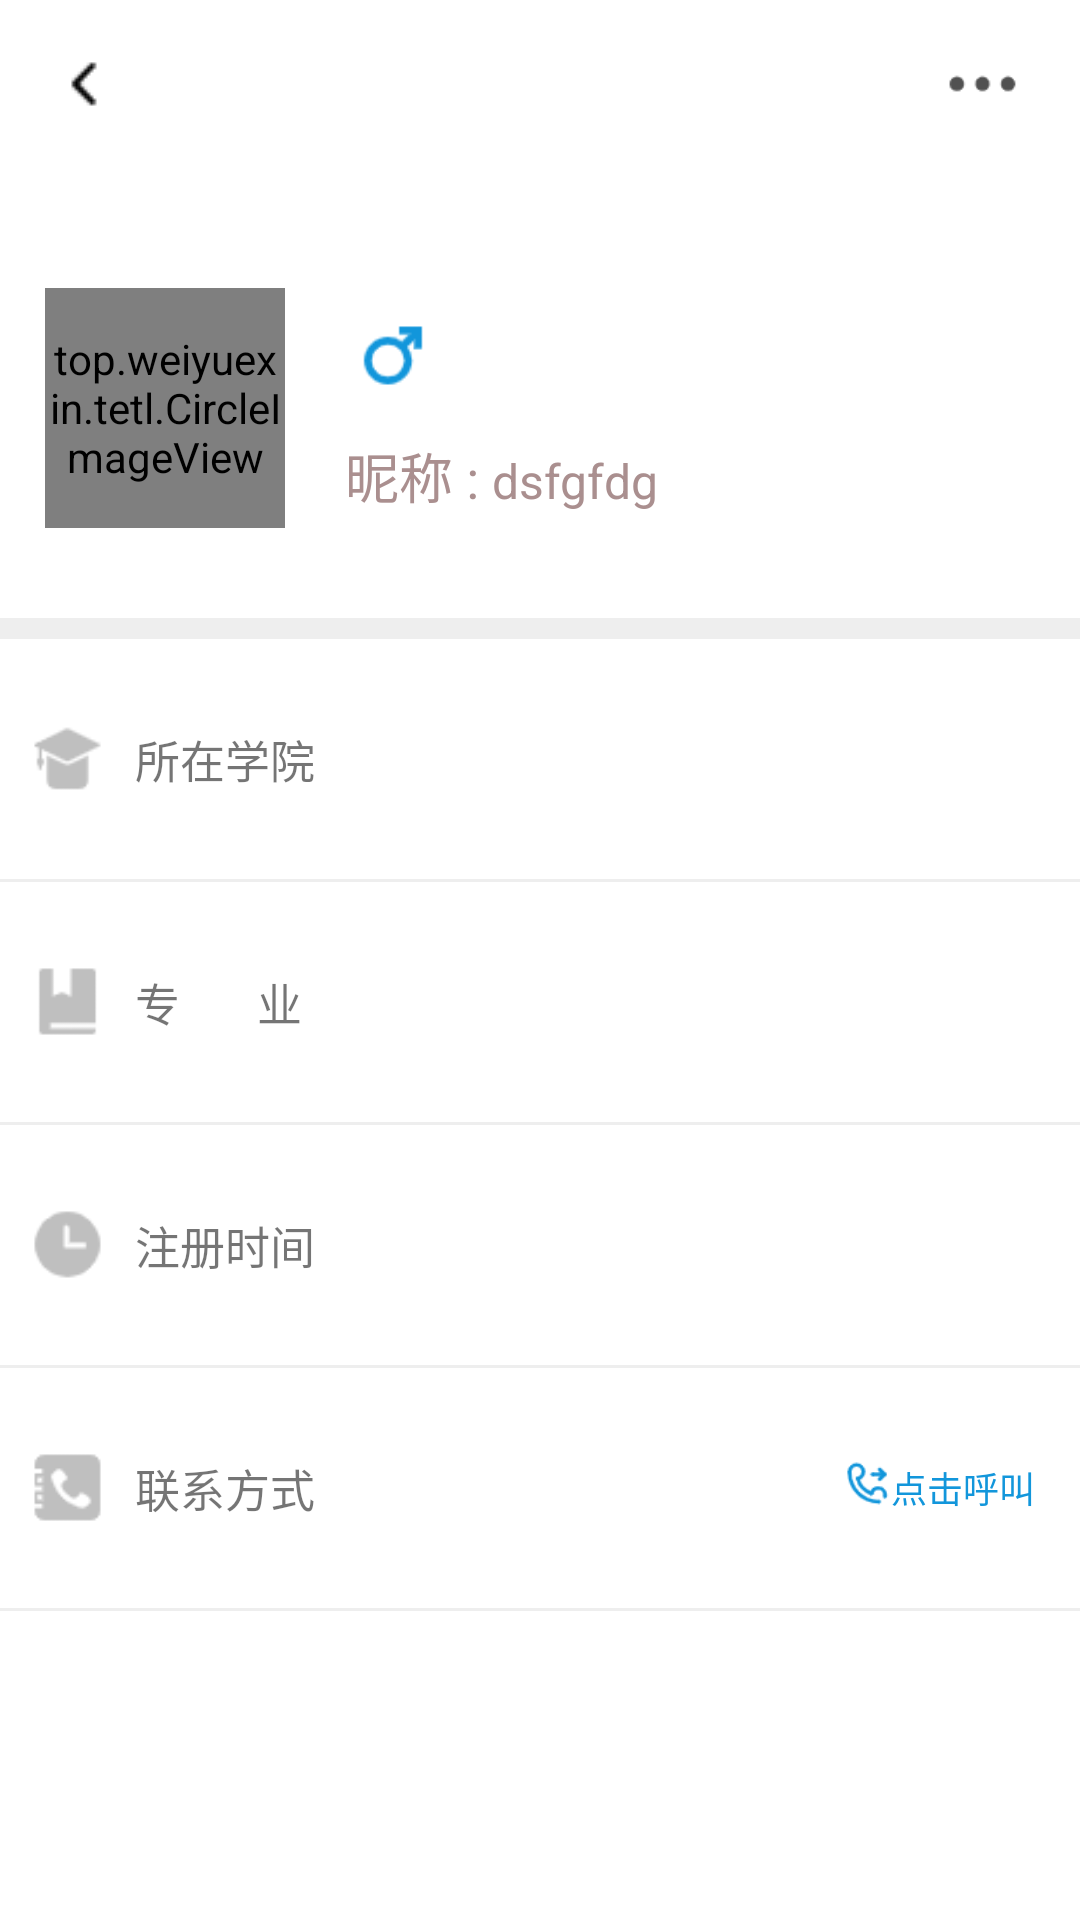

Icon click points for this 1080x1920 phone screenshot, format (x,y):
call: (867,1483)
college: (67,758)
dot: (982,83)
major: (67,1001)
male: (393,355)
phonenumber: (67,1487)
registertime: (67,1244)
